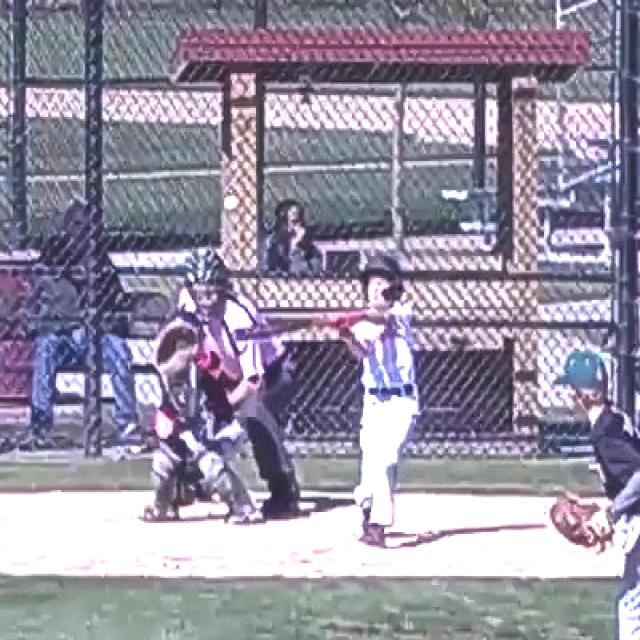baseball: (224, 196, 238, 208)
